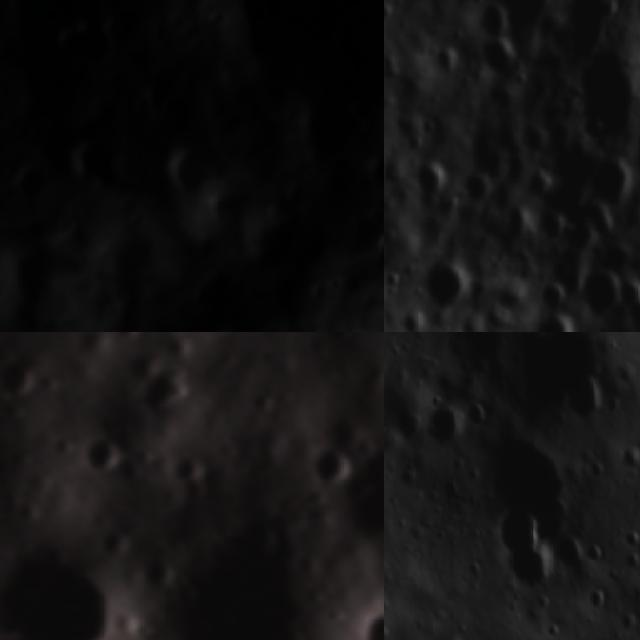crater: (94, 463, 384, 640), (298, 332, 384, 626), (0, 511, 144, 640), (465, 430, 588, 550), (570, 52, 640, 150), (63, 418, 141, 496), (120, 358, 194, 433), (292, 428, 366, 502), (497, 531, 565, 599), (0, 344, 55, 426), (414, 256, 478, 322), (462, 120, 512, 193), (565, 0, 617, 70), (495, 0, 558, 48), (586, 162, 640, 216), (44, 21, 110, 64), (556, 372, 606, 424), (472, 38, 522, 88), (406, 158, 450, 214), (579, 268, 624, 322), (533, 275, 575, 318), (69, 146, 115, 185), (349, 593, 384, 640), (533, 203, 566, 250), (172, 150, 205, 193), (506, 202, 536, 248), (527, 313, 583, 332), (345, 92, 376, 126), (627, 528, 640, 605), (370, 501, 384, 568), (368, 230, 384, 261), (125, 92, 150, 111), (208, 2, 226, 24), (630, 601, 640, 640), (431, 630, 468, 640), (373, 152, 384, 184)
